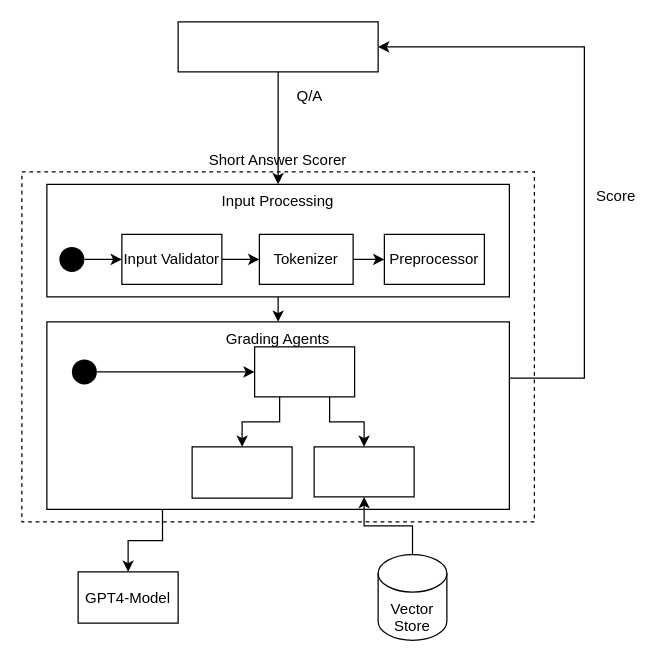
Image size: 669x663. Some labels were removed from this diagram. The centre of each missing label's shape, as x and y in pixels:
"Dean Agent" goes at point 304,371.
"Evaluator Agent" goes at point 363,471.
"Grader Agent" goes at point 241,472.
"Short Answer Grader" goes at point 277,46.
